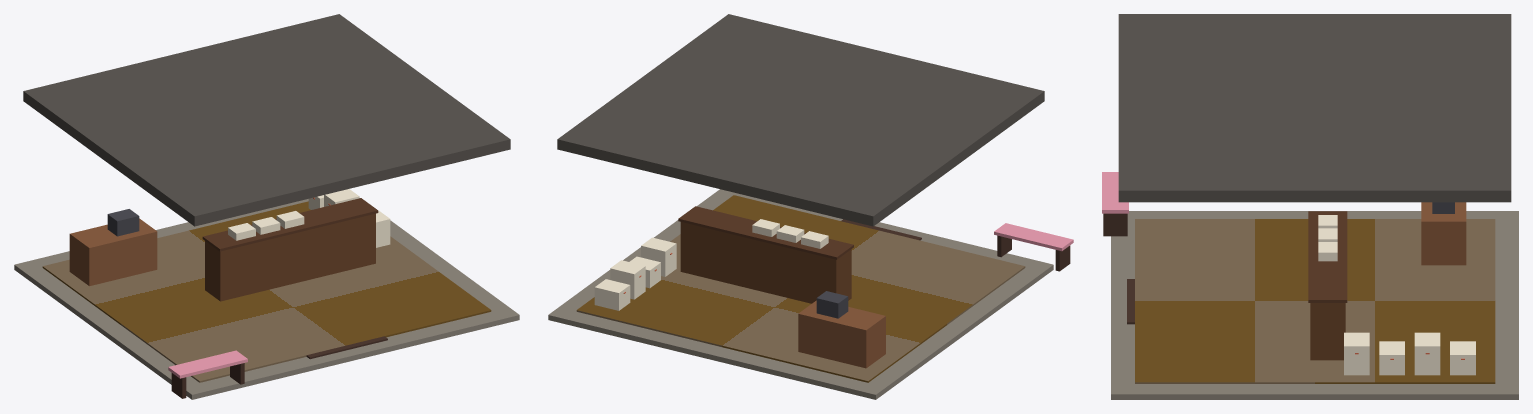
Rendered from structure.glb.
3 renders of one model, left to right at view 1: azimuth 30°, elevation 25°; view 2: azimuth 150°, elevation 25°; view 3: azimuth 270°, elevation 25°, orthographic. The views are drawn at different scales.
Parts seen in each view (by area): view 1: Box5, Box2, Box1, Box6, Box11, Box7, Box21, Box12, Box19, Box4; view 2: Box5, Box2, Box1, Box6, Box11, Box7, Box21, Box13, Box15, Box19, Box12, Box17; view 3: Box5, Box2, Box1, Box7, Box11, Box6, Box15, Box19, Box17, Box13, Box21, Box23 (+1 smaller).
Part boxes in pixels (<box>): Box5: <box>23,14,510,226</box>; Box2: <box>42,201,491,382</box>; Box1: <box>14,199,519,399</box>; Box6: <box>205,213,375,301</box>; Box11: <box>69,218,157,286</box>; Box7: <box>202,198,378,251</box>; Box21: <box>168,350,247,378</box>; Box12: <box>107,209,139,236</box>; Box19: <box>376,211,390,247</box>; Box4: <box>306,336,387,359</box>; Box5: <box>557,14,1044,226</box>; Box2: <box>576,195,1025,382</box>; Box1: <box>548,189,1053,399</box>; Box6: <box>680,222,851,303</box>; Box11: <box>798,300,885,368</box>; Box7: <box>678,206,853,259</box>; Box21: <box>994,223,1073,251</box>; Box13: <box>594,279,630,310</box>; Box15: <box>610,260,645,299</box>; Box19: <box>641,237,676,276</box>; Box12: <box>816,291,848,318</box>; Box17: <box>629,256,660,288</box>; Box5: <box>1118,14,1511,202</box>; Box2: <box>1135,219,1495,383</box>; Box1: <box>1111,211,1518,399</box>; Box7: <box>1308,211,1347,302</box>; Box11: <box>1421,202,1466,265</box>; Box6: <box>1310,303,1345,360</box>; Box15: <box>1414,332,1440,375</box>; Box19: <box>1344,332,1369,375</box>; Box17: <box>1379,341,1404,375</box>; Box13: <box>1450,341,1475,375</box>; Box21: <box>1102,172,1128,213</box>; Box23: <box>1103,213,1127,236</box>.
Size of the model in its own units: 7.07 by 3.53 by 6.48.
12 materials, 1 textured.
